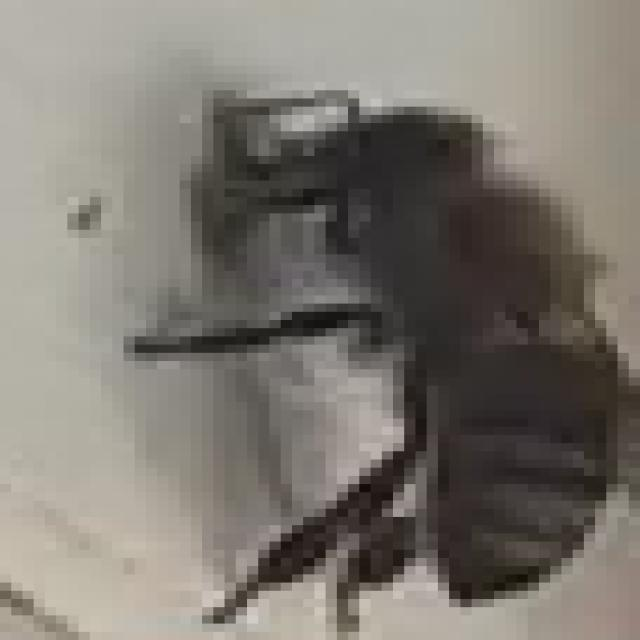honeybee: (121, 63, 640, 640)
